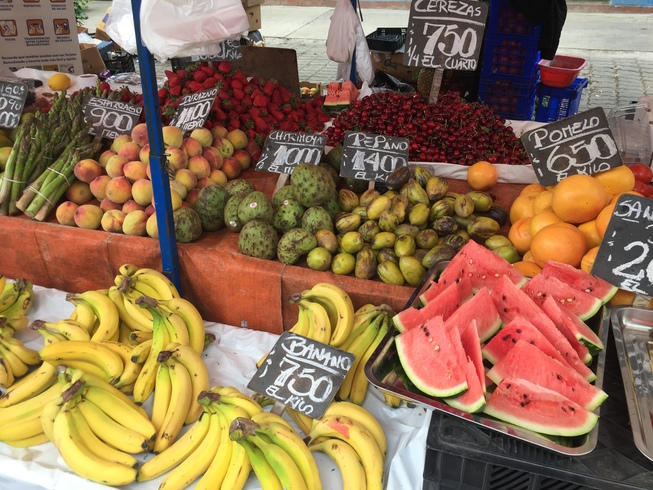precio: (517, 97, 634, 206), (247, 323, 363, 431), (593, 186, 653, 304), (396, 1, 495, 70), (340, 128, 421, 198), (258, 120, 334, 191), (74, 92, 154, 150), (169, 88, 230, 143), (1, 77, 37, 134)
